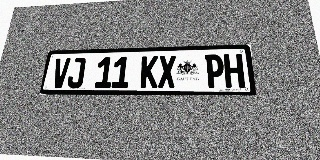1: (111, 56, 130, 88), (95, 57, 114, 88)
H: (223, 54, 245, 88)
J: (67, 57, 86, 88)
K: (140, 56, 158, 88)
P: (205, 54, 225, 88)
V: (51, 58, 71, 88)
X: (158, 55, 176, 88)
